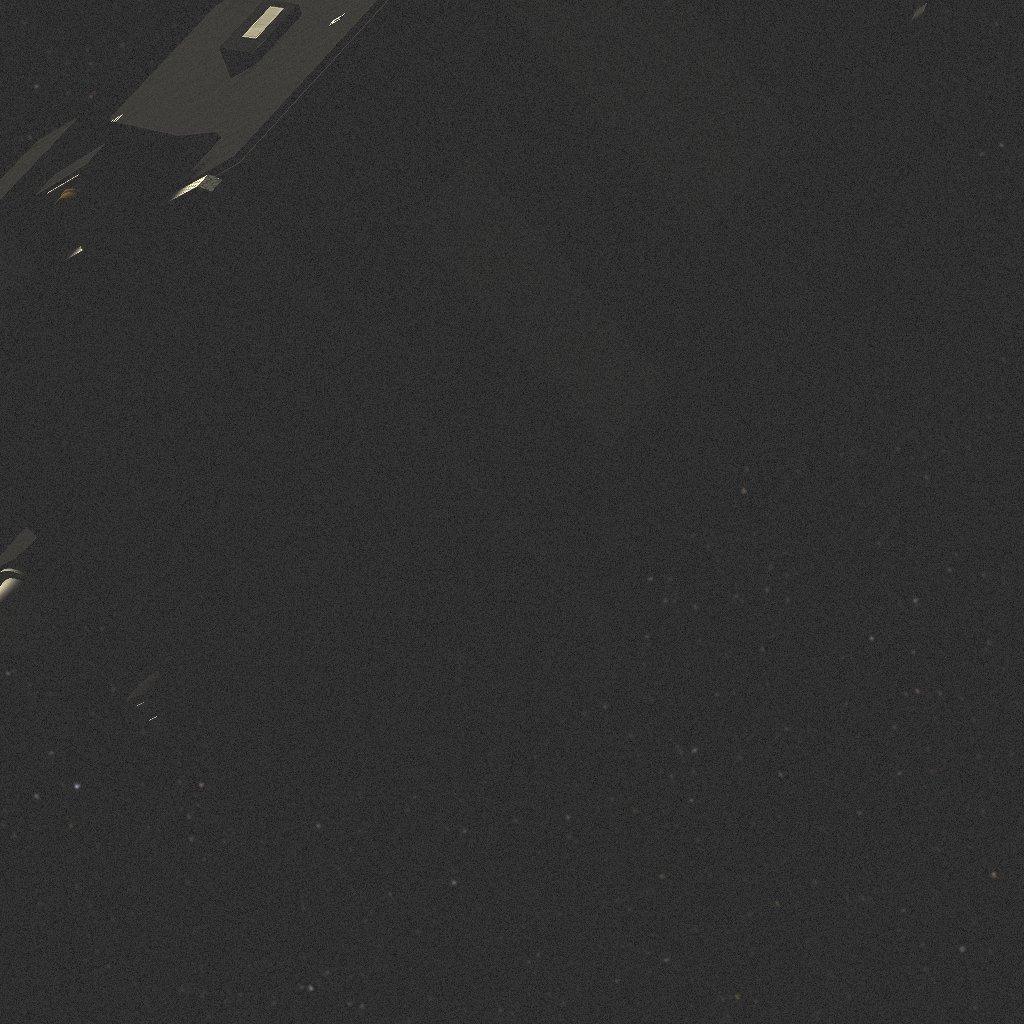proba_3_ocs: (0, 0, 959, 804)
